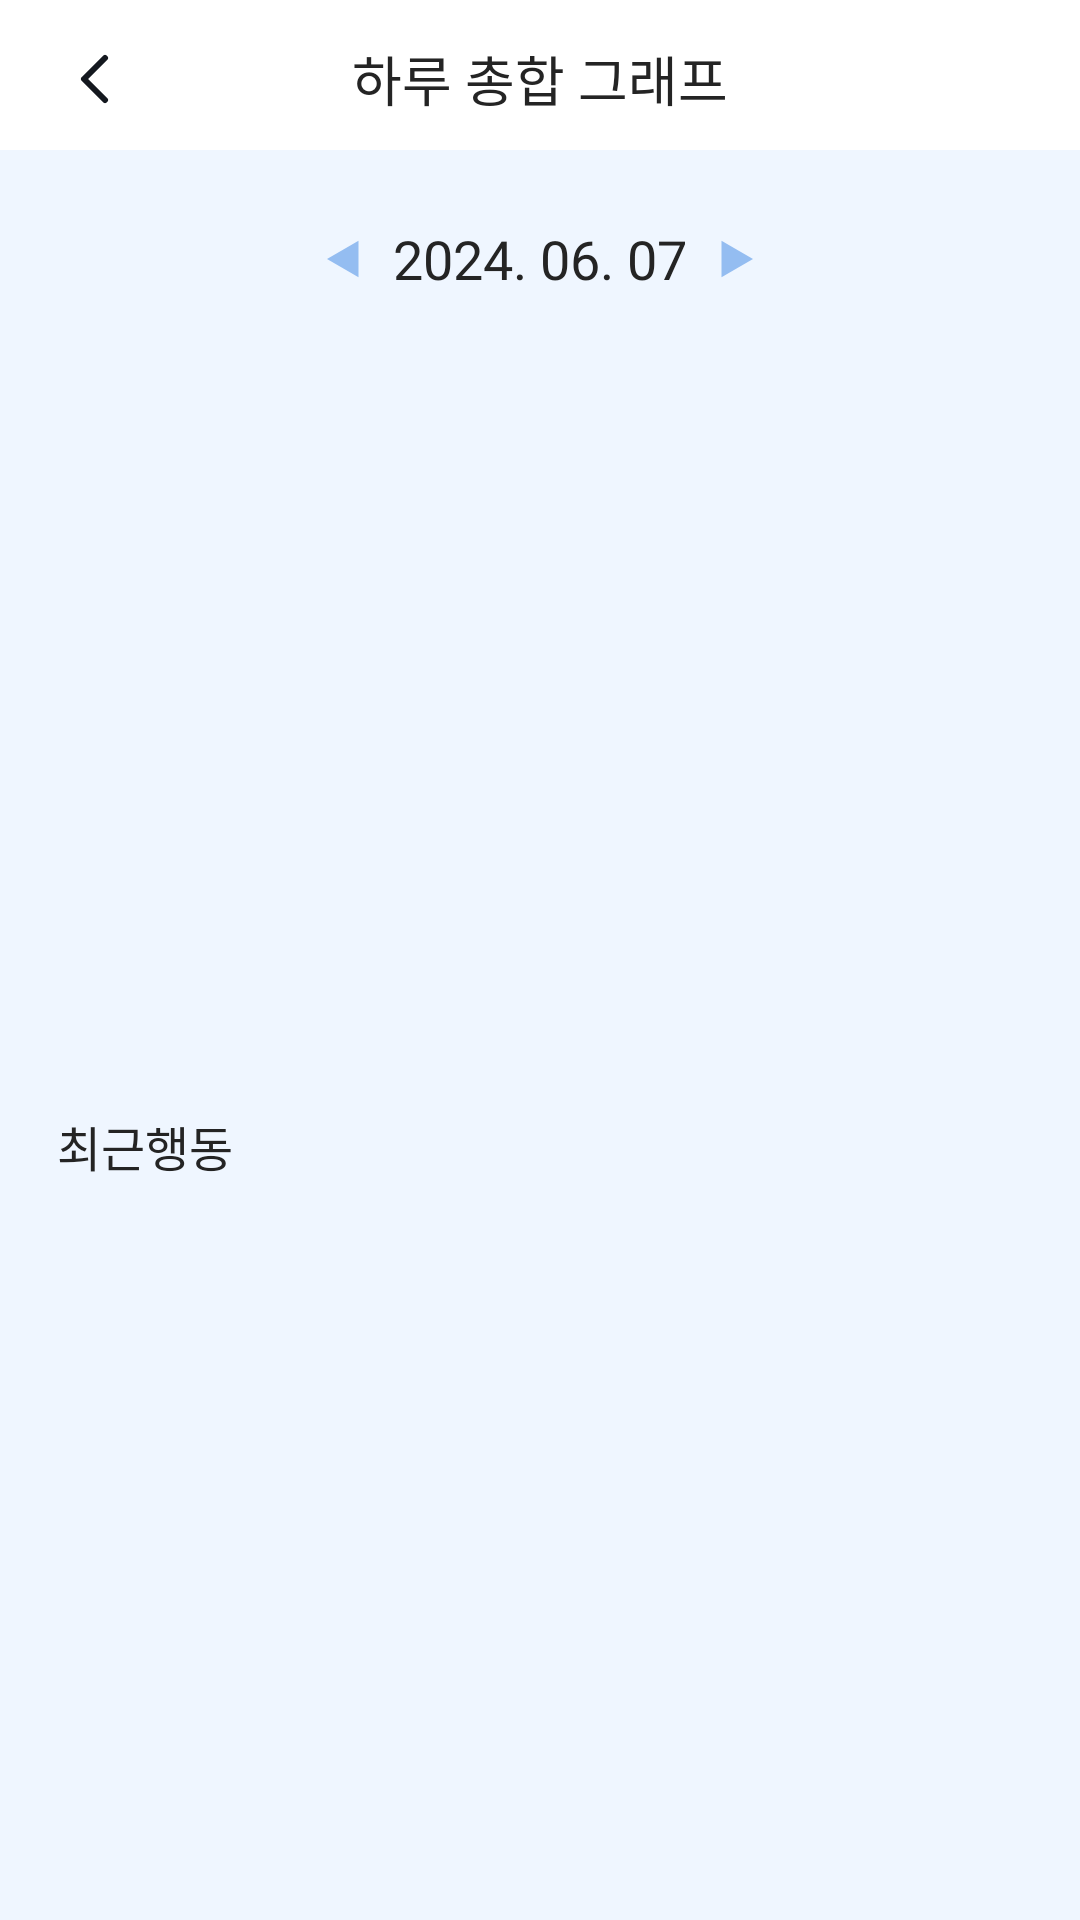

Locate icon controls on the screen. Image size 1080 x 1920, boxes as (x1, y1, x2, y2).
leftriangle main: (327, 241, 359, 277)
rightriangle main: (721, 241, 753, 277)
